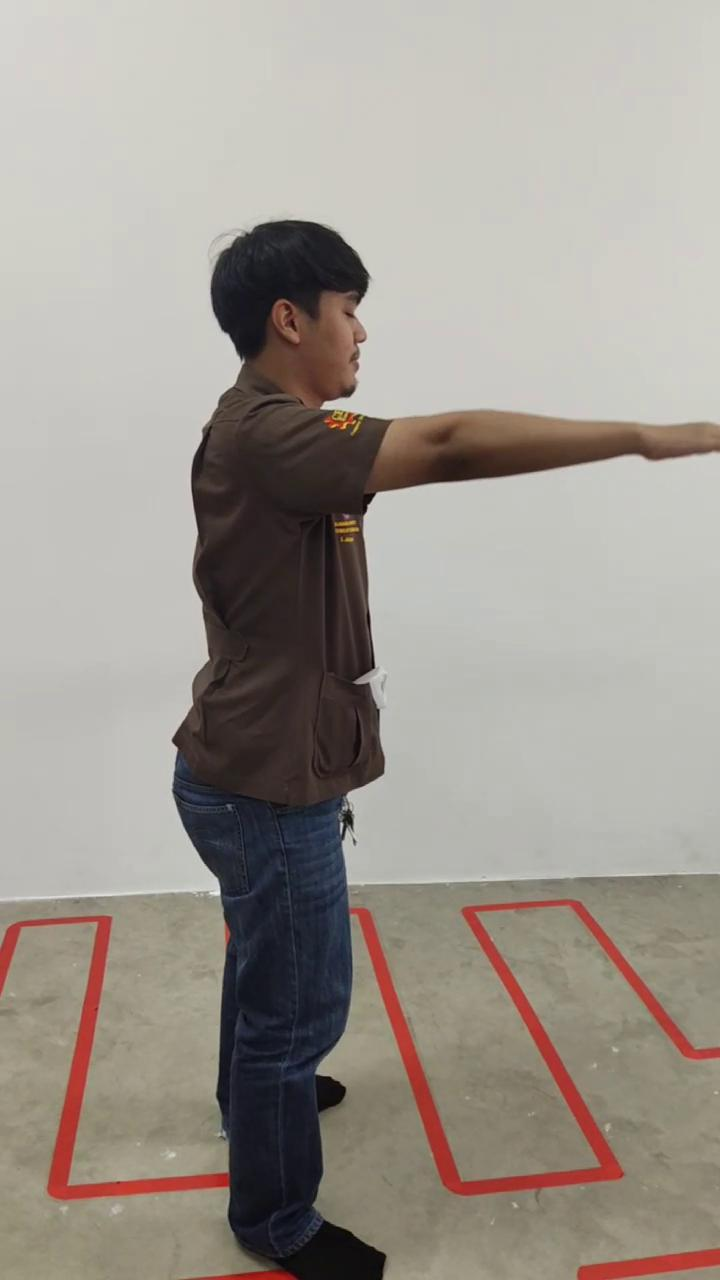squat up: (172, 220, 718, 1280)
